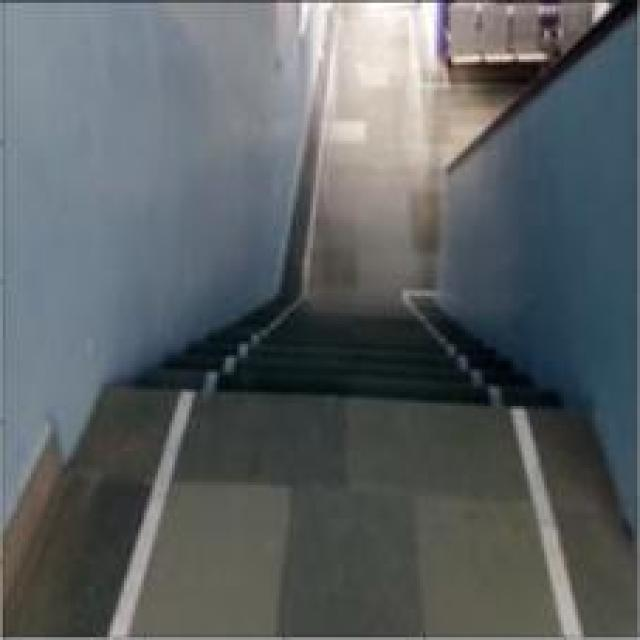downstair: (91, 263, 593, 449)
